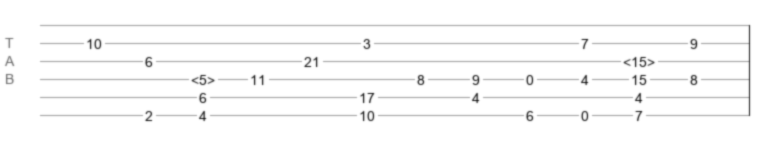0: (526, 72, 534, 82), (581, 108, 589, 118)
10: (86, 36, 102, 46), (359, 108, 375, 118)
11: (250, 72, 266, 82)
15: (631, 72, 647, 82)
17: (359, 90, 375, 100)
2: (145, 108, 153, 118)
21: (304, 54, 320, 64)
3: (363, 36, 371, 46)
4: (199, 108, 207, 118), (472, 90, 480, 100), (581, 72, 589, 82), (635, 90, 643, 100)
6: (145, 54, 153, 64), (199, 90, 207, 100), (526, 108, 534, 118)
7: (581, 36, 589, 46), (635, 108, 643, 118)
8: (417, 72, 425, 82), (690, 72, 698, 82)
9: (472, 72, 480, 82), (690, 36, 698, 46)
harmonic: (623, 54, 655, 64), (191, 72, 215, 82)
